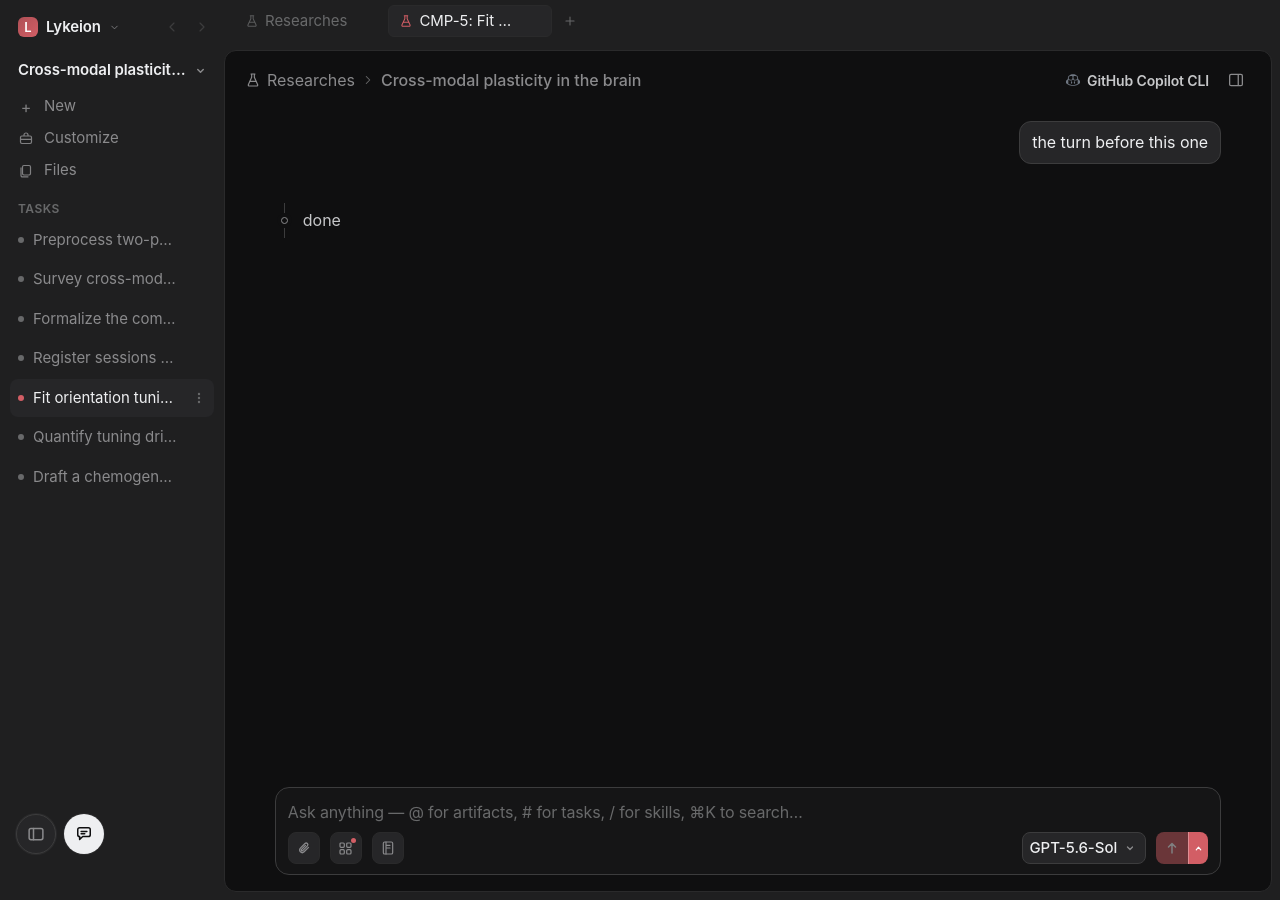
Test case: Agent selection › lists the models of the agent the Task is talking to
Click the button with aria-label "Model:".
click(1084, 848)  # box 1022,832 -> 1146,864
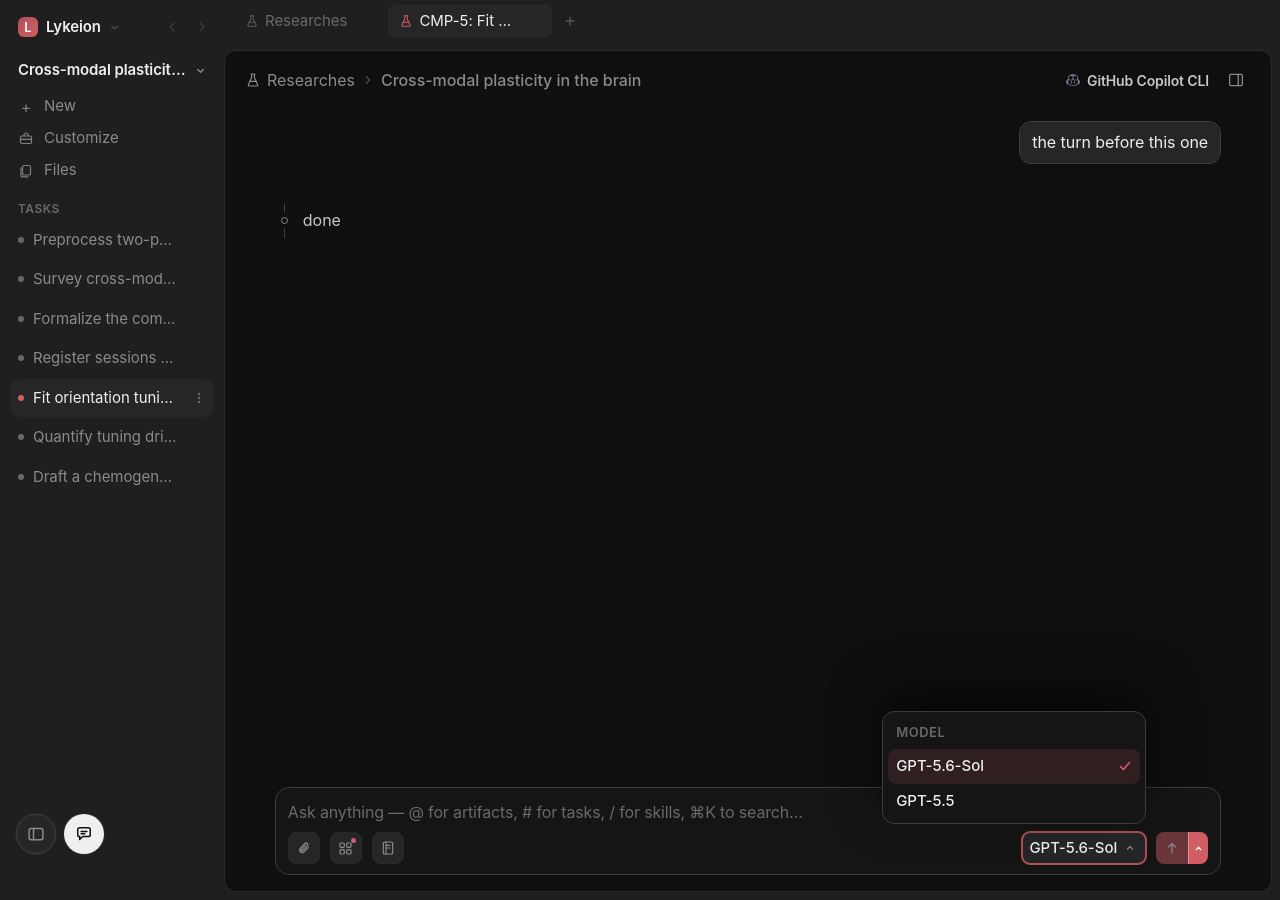
Result: the option "GPT-5.5" is shown at 888,784 -> 1140,818
